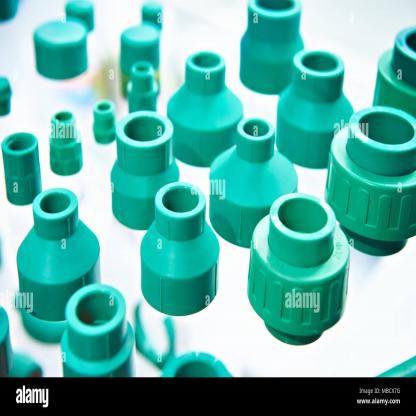PVC: (0, 1, 416, 379)
